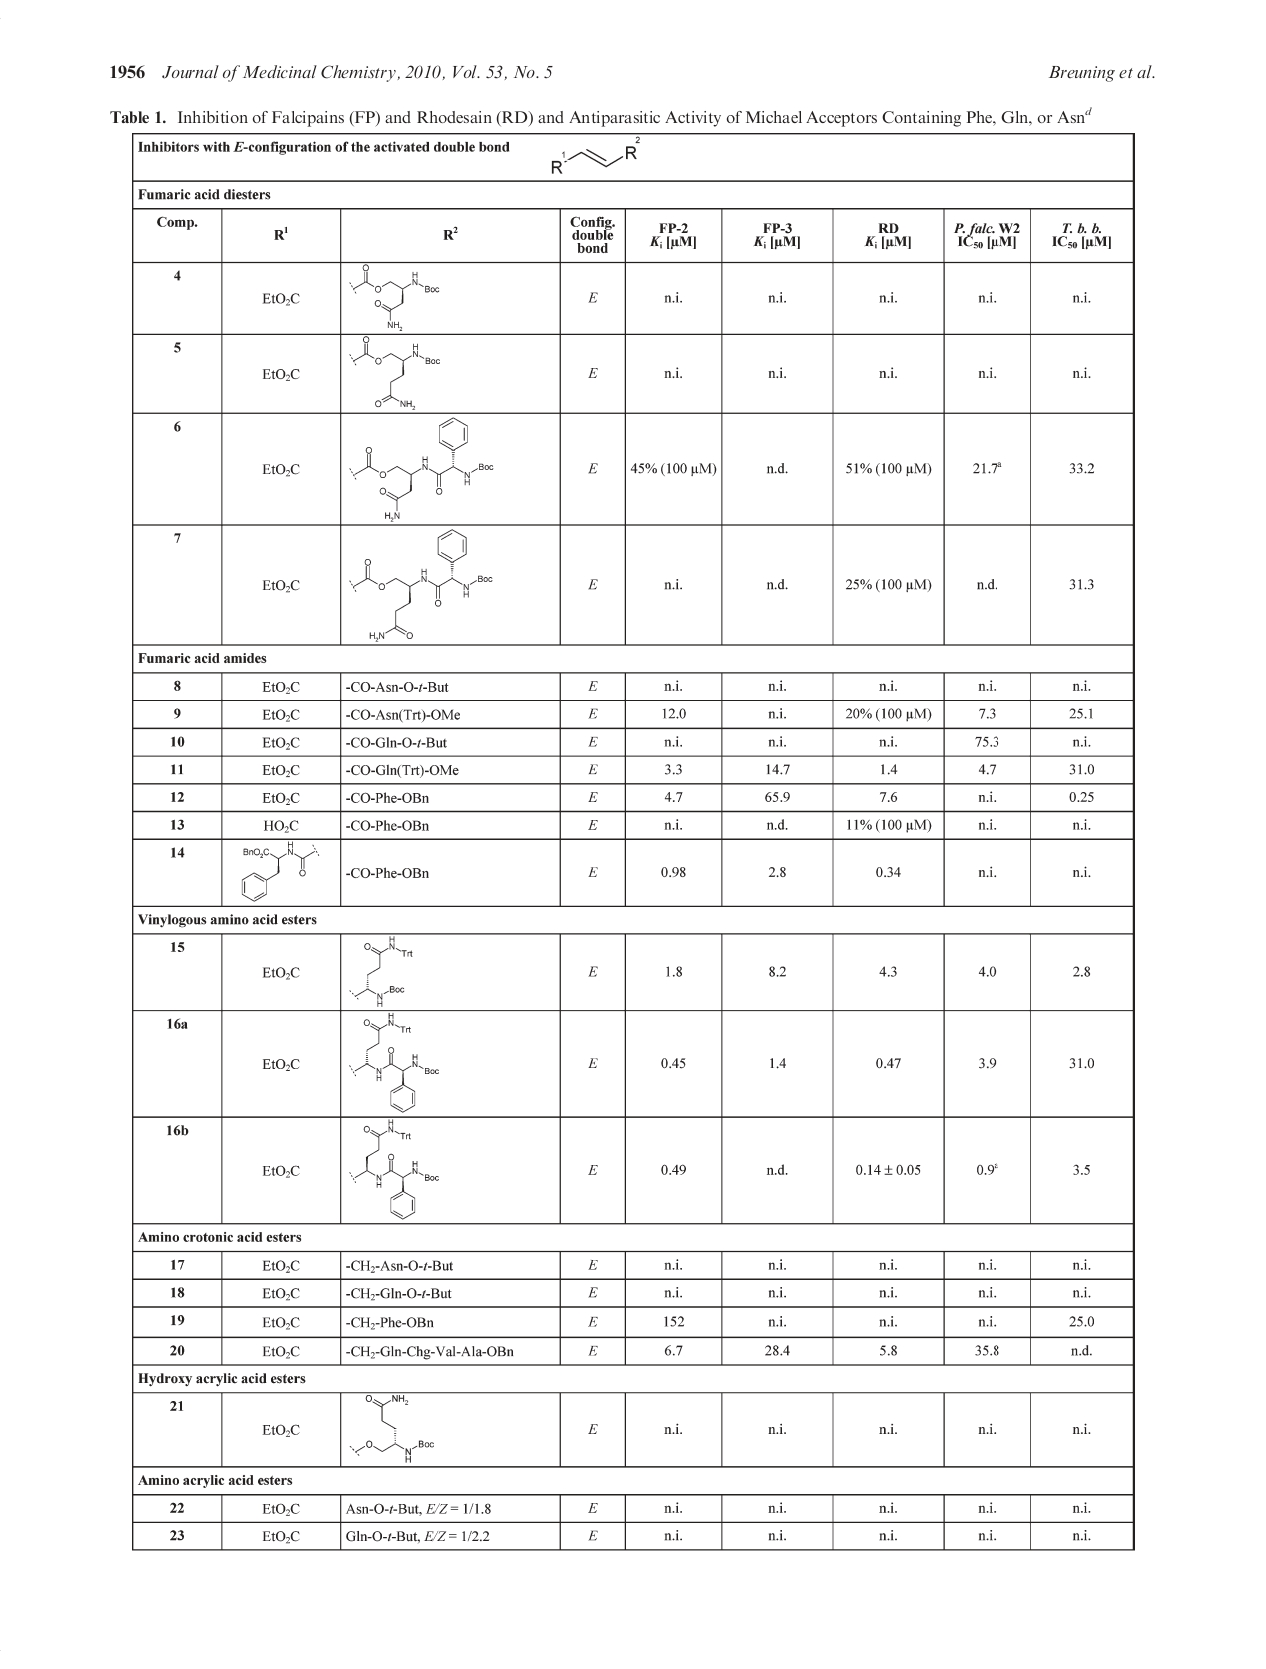exist_molecular: (347, 527, 495, 644), (347, 416, 495, 523), (348, 1011, 442, 1114), (348, 1118, 442, 1220), (347, 334, 442, 411), (346, 263, 443, 332), (348, 1394, 438, 1464), (239, 840, 320, 903), (348, 935, 416, 1009), (548, 134, 645, 176)
